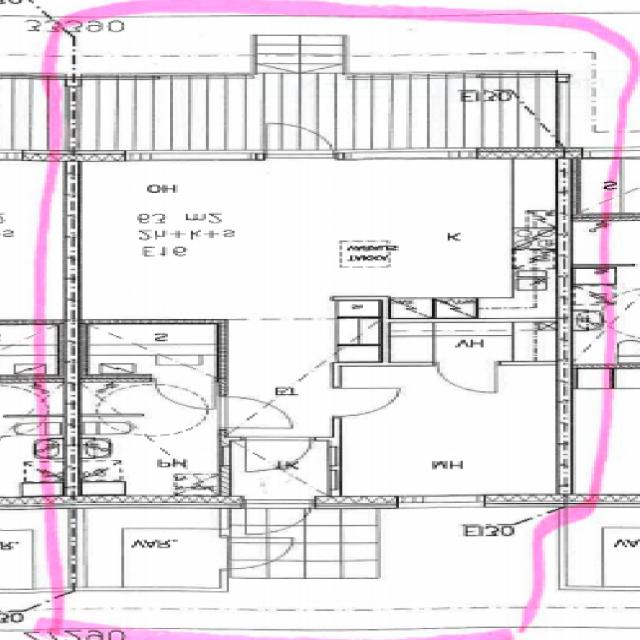door: (247, 496, 316, 542), (263, 115, 333, 159), (244, 437, 311, 474), (221, 537, 296, 569), (219, 398, 290, 428), (334, 389, 402, 418), (154, 378, 212, 411), (440, 362, 498, 394)
